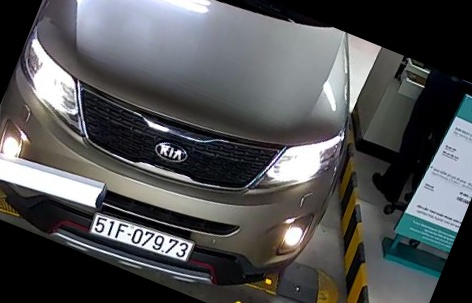plate: (87, 209, 201, 269)
